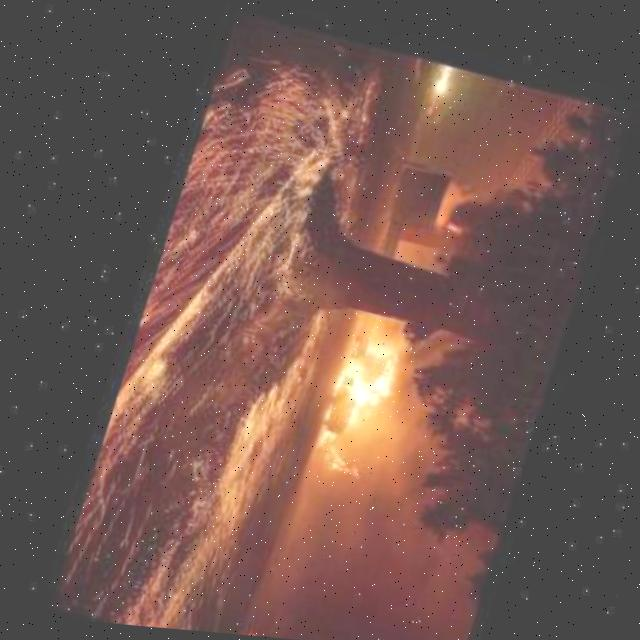fire: (338, 353, 398, 407), (322, 439, 365, 481)
